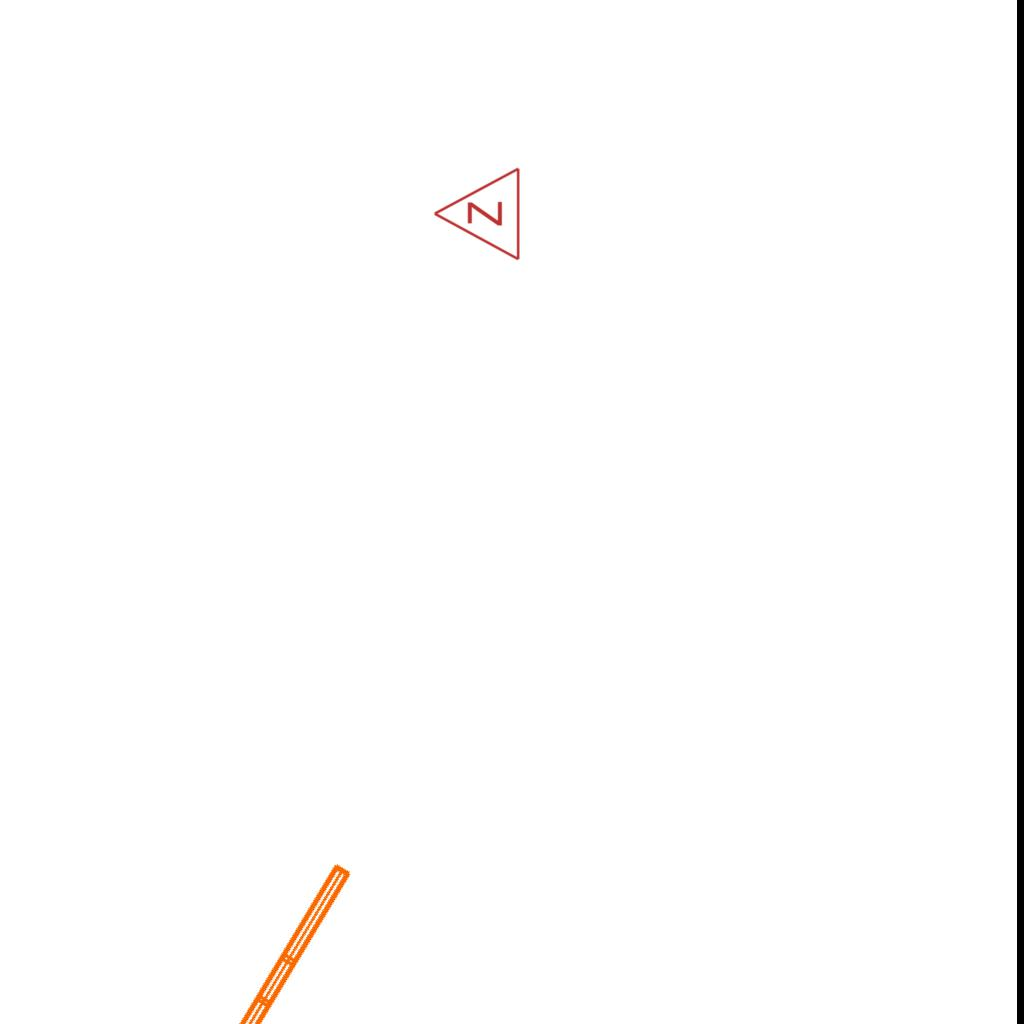Ambulanz_Pendelleuchte_LED: (133, 855, 382, 1024)
Zimmersignalleuchte: (427, 166, 527, 264)
